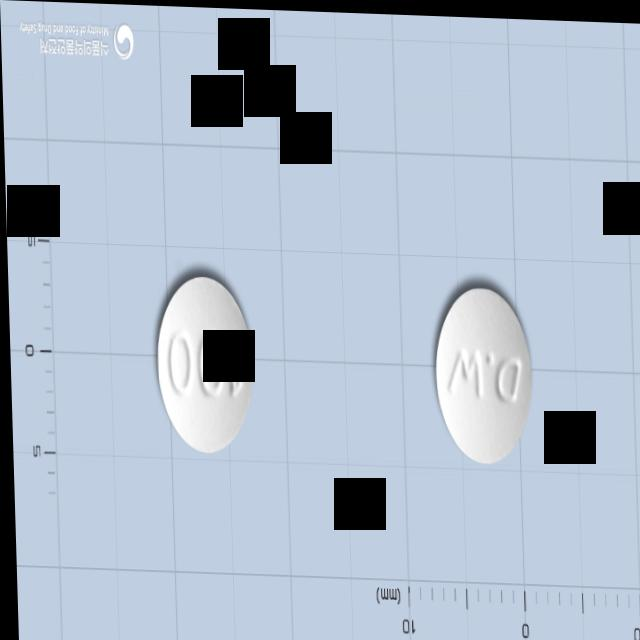Daewoong Levofloxacin: (431, 281, 532, 466), (153, 274, 254, 455)
